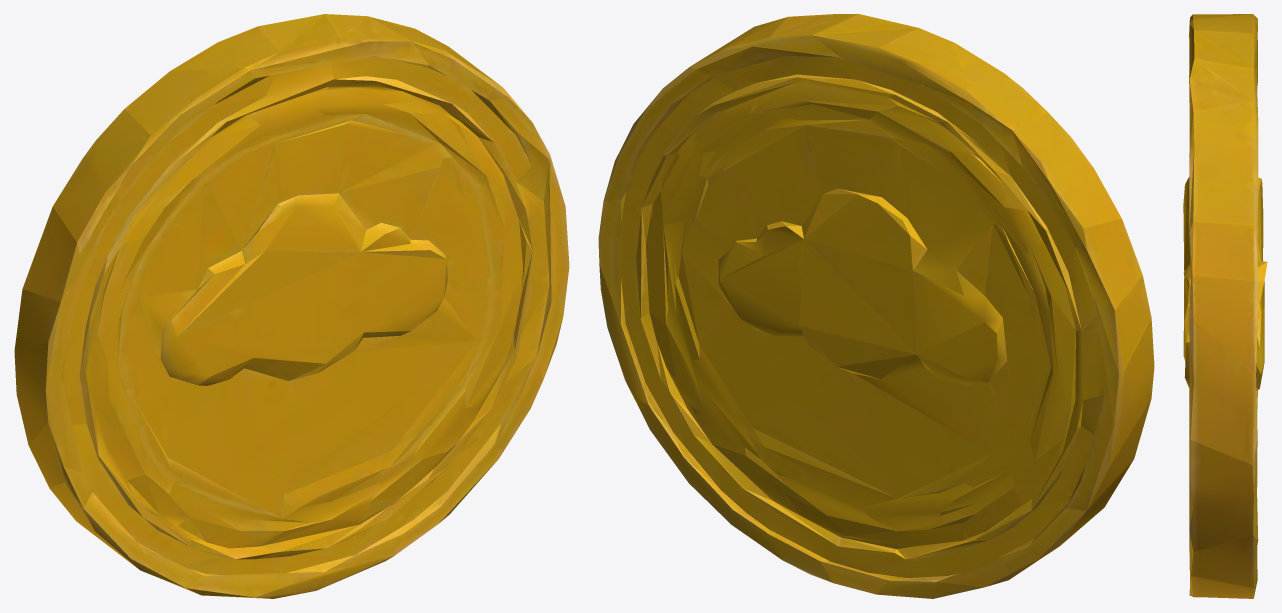
The model's file is coin.glb.
3 views of the same model, side by side, from view 1: azimuth 30°, elevation 25°; view 2: azimuth 150°, elevation 25°; view 3: azimuth 270°, elevation 25° (orthographic). The views are drawn at different scales.
Bounding box in the file's own units: 1.9 × 1.9 × 0.2733.
1 material, 1 textured.
